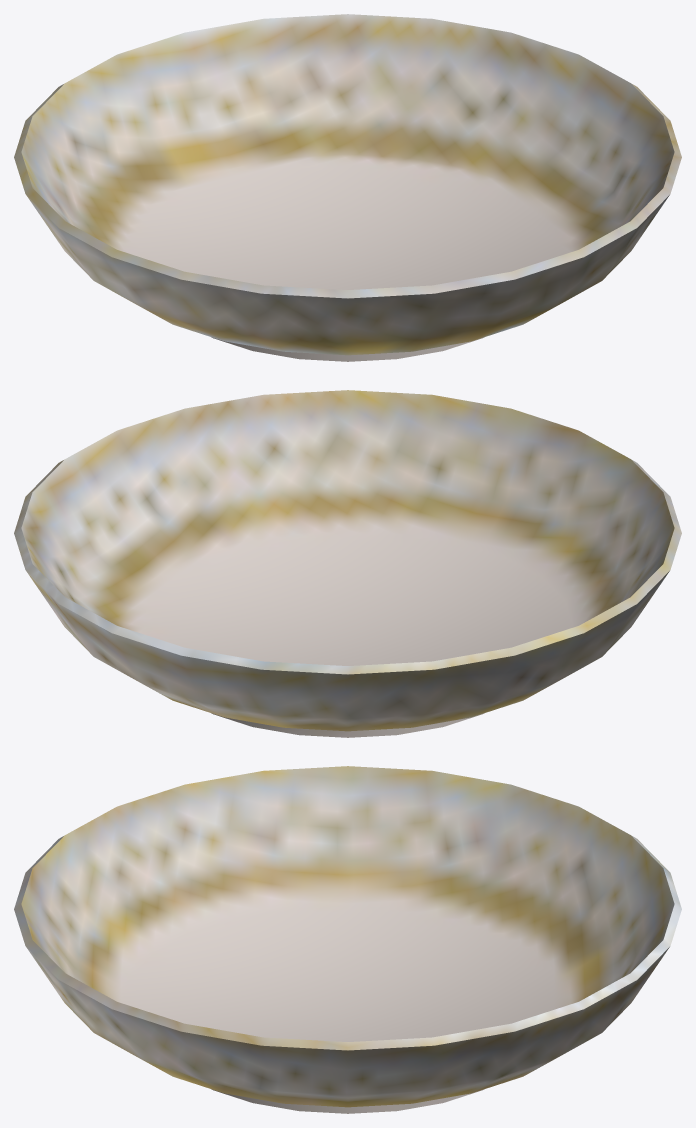
Rendered from LP_Bowl.FBX.
3 views of the same model, one above another, from view 1: azimuth 30°, elevation 25°; view 2: azimuth 150°, elevation 25°; view 3: azimuth 270°, elevation 25° (orthographic).
Parts seen in each view (by area): view 1: LP_Bowl; view 2: LP_Bowl; view 3: LP_Bowl.
Part boxes in pixels (left/top/right/bottom): LP_Bowl: left=14, top=14, right=681, bottom=361; LP_Bowl: left=14, top=390, right=681, bottom=737; LP_Bowl: left=14, top=766, right=681, bottom=1113.
Size of the model in its own units: 21.81 by 4.65 by 21.81.
